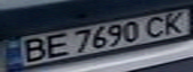0: (121, 19, 145, 43)
6: (90, 24, 112, 51)
7: (69, 27, 93, 54)
9: (106, 21, 127, 46)
B: (12, 35, 51, 65)
C: (139, 14, 175, 38)
E: (39, 31, 72, 60)
K: (157, 9, 193, 35)
